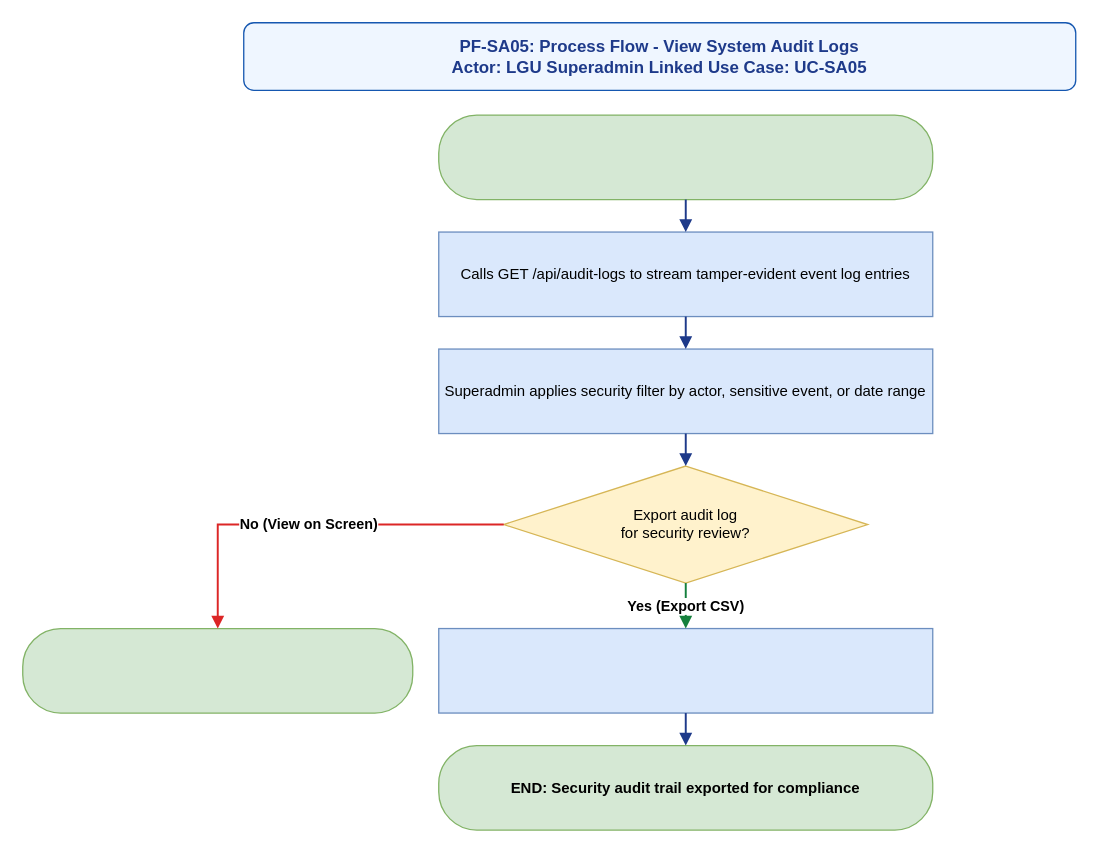
Some shapes in this 1099 by 853 pixel diagram are drawn without their labels. Each missing label, with the box of its shape:
END: Security audit trail verified on screen: (21, 627, 413, 713)
START: Superadmin opens SystemAuditLogs.jsx: (437, 114, 933, 200)
System generates authenticated audit trail CSV file download: (437, 627, 933, 713)
